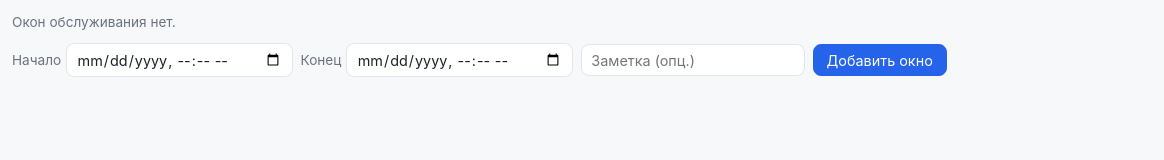
Test: MaintenanceWindows › creates a window for the whole group
Type "2026-01-01T10:00" into the field named "starts_at" at (179, 60), box [66,43,293,77]
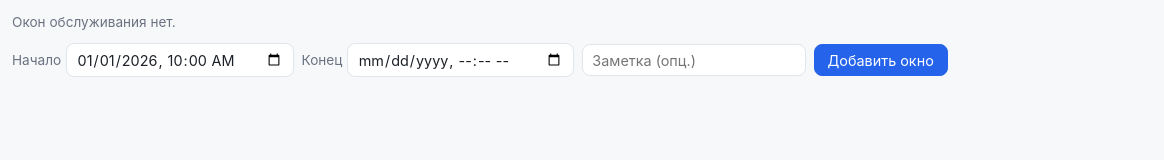
Type "2026-01-01T12:00" into the field named "ends_at" at (460, 60), box [347,43,574,77]
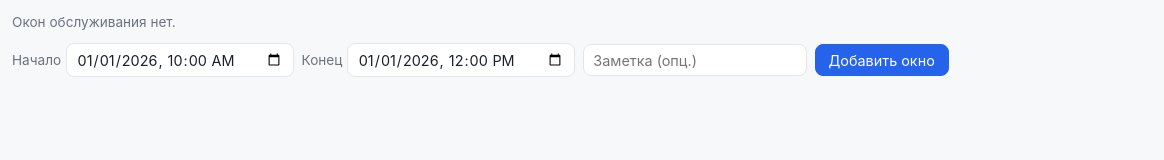
Type " релиз " into the field named "note" at (695, 60), box [583,44,807,76]
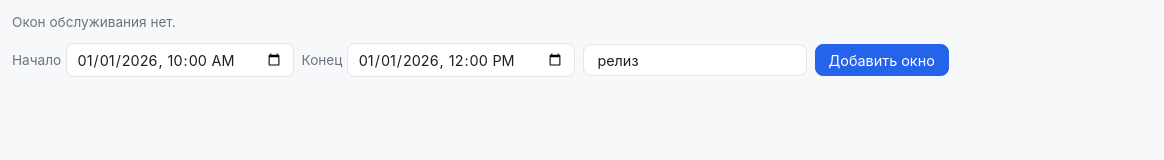
Submit the form, box [12,43,949,77]
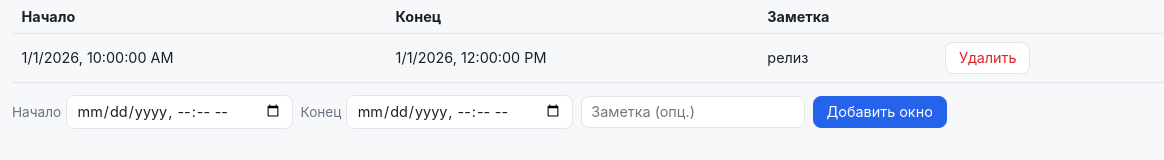
expect the text "релиз" is shown: met, box [758,34,936,82]
